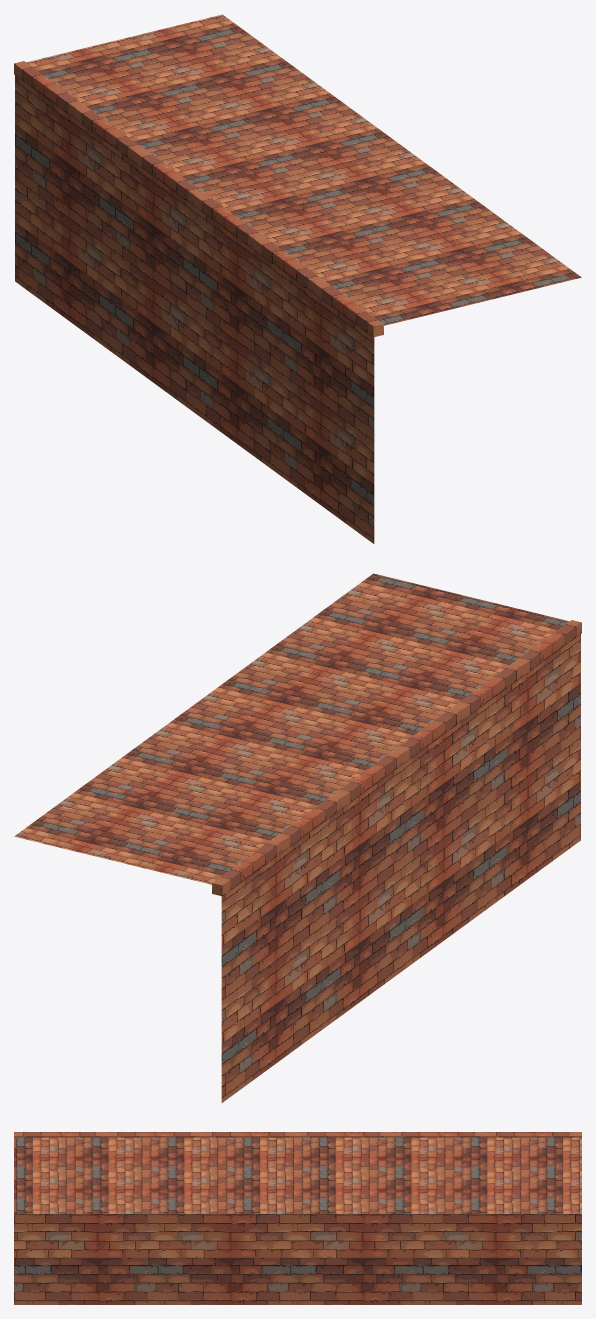
File: floor.FBX
The picture shows the model from 3 angles, top to bottom: view 1: azimuth 30°, elevation 25°; view 2: azimuth 150°, elevation 25°; view 3: azimuth 270°, elevation 25°; orthographic projection. The views are drawn at different scales.
Visible parts, largest first — view 1: floor_03, floor_01, floor_02; view 2: floor_03, floor_01, floor_02; view 3: floor_03, floor_01, floor_02.
Boxes of the visible parts, left/top/right/bottom form: floor_03: left=15, top=75, right=374, bottom=543; floor_01: left=27, top=14, right=581, bottom=325; floor_02: left=14, top=61, right=383, bottom=337; floor_03: left=221, top=634, right=580, bottom=1102; floor_01: left=14, top=573, right=568, bottom=884; floor_02: left=212, top=620, right=581, bottom=896; floor_03: left=14, top=1214, right=581, bottom=1304; floor_01: left=14, top=1137, right=581, bottom=1213; floor_02: left=14, top=1132, right=581, bottom=1137.
Size of the model in its own units: 100 by 100 by 300.
